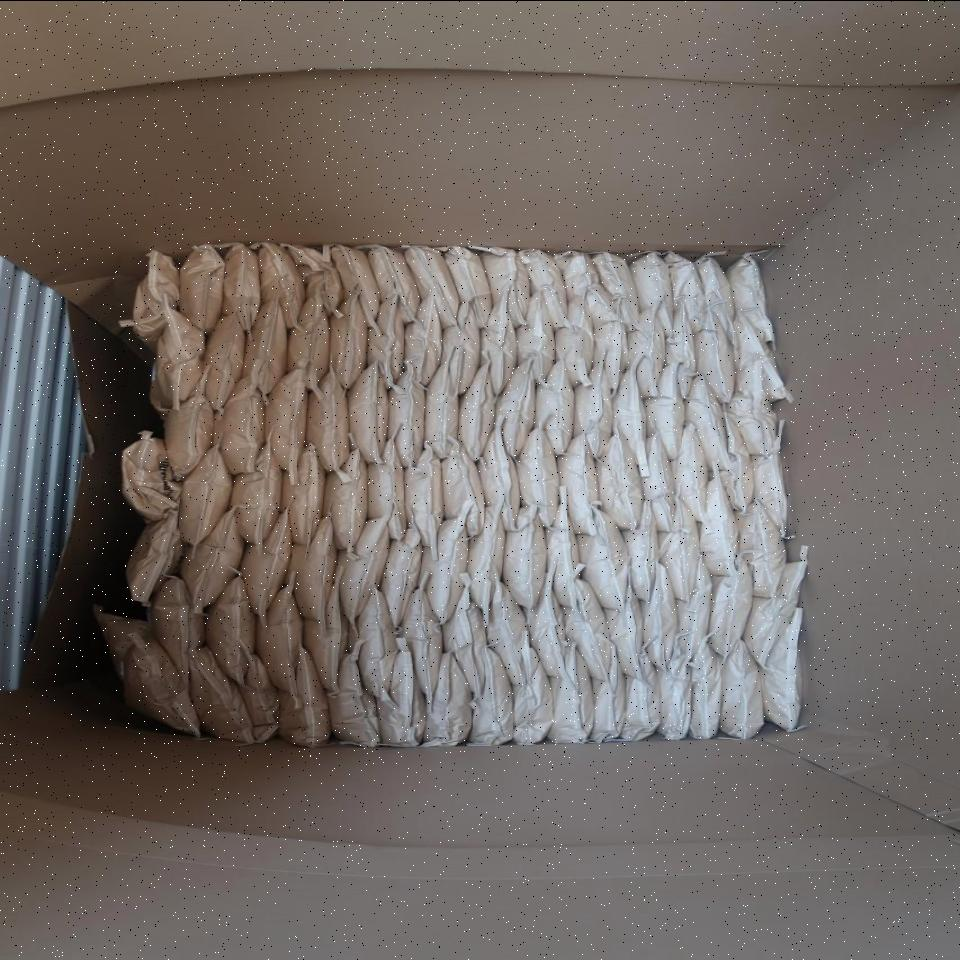bag: (98, 605, 197, 734), (687, 374, 756, 510), (743, 556, 807, 664), (187, 644, 252, 742), (119, 249, 182, 349), (150, 298, 205, 412), (569, 509, 629, 611), (337, 507, 390, 622), (182, 510, 244, 608), (395, 588, 444, 708), (521, 562, 570, 680), (559, 571, 612, 680), (205, 573, 256, 686), (419, 508, 469, 623), (149, 573, 202, 680), (163, 367, 214, 478), (301, 574, 349, 691), (347, 588, 396, 701), (276, 647, 331, 747), (232, 432, 282, 542), (289, 512, 338, 624), (239, 508, 292, 611), (724, 358, 780, 455), (730, 311, 789, 403), (180, 442, 233, 544), (216, 363, 264, 474), (127, 508, 182, 604), (602, 565, 648, 678), (442, 581, 487, 696), (556, 252, 625, 327), (546, 637, 594, 743), (256, 583, 301, 694), (377, 643, 425, 747), (737, 498, 787, 597), (123, 432, 179, 520), (468, 493, 506, 622), (333, 647, 383, 745), (265, 369, 309, 479), (763, 605, 802, 729), (613, 354, 652, 476), (322, 449, 369, 550), (425, 648, 473, 745), (382, 511, 423, 624), (478, 423, 522, 528), (345, 360, 390, 462), (201, 311, 245, 414), (513, 631, 553, 744), (699, 463, 739, 576), (601, 427, 646, 527), (573, 349, 614, 458), (492, 357, 537, 456), (487, 572, 527, 683), (388, 356, 428, 467), (559, 432, 601, 537), (405, 246, 458, 329), (308, 363, 348, 472), (443, 438, 488, 534), (477, 247, 531, 327), (328, 244, 379, 328), (324, 292, 369, 387), (254, 244, 306, 326), (281, 445, 324, 544), (287, 243, 343, 319), (438, 298, 482, 394), (366, 435, 407, 538), (709, 557, 752, 655), (643, 361, 686, 459), (727, 255, 776, 341), (243, 300, 288, 393), (504, 504, 545, 606), (662, 488, 700, 598), (480, 289, 519, 396), (721, 638, 763, 737), (517, 427, 559, 526), (471, 644, 512, 745), (406, 443, 446, 546), (751, 420, 787, 534), (546, 486, 580, 605), (286, 297, 329, 391), (593, 249, 643, 329), (696, 305, 737, 402), (369, 246, 421, 322), (676, 548, 711, 660), (555, 289, 594, 388), (516, 287, 555, 385), (535, 358, 575, 453), (641, 563, 677, 668), (405, 287, 444, 383), (180, 244, 223, 331), (521, 249, 568, 328), (459, 359, 496, 459), (591, 297, 629, 394), (591, 637, 626, 742), (688, 633, 723, 738), (665, 251, 709, 333), (632, 253, 677, 333), (426, 355, 460, 459), (448, 247, 492, 327), (627, 300, 663, 397), (368, 295, 405, 388), (626, 499, 660, 600), (657, 641, 692, 739), (675, 423, 709, 522), (645, 433, 678, 531), (239, 652, 276, 737), (222, 247, 259, 330), (665, 304, 696, 400), (623, 658, 659, 740), (696, 256, 735, 330)
